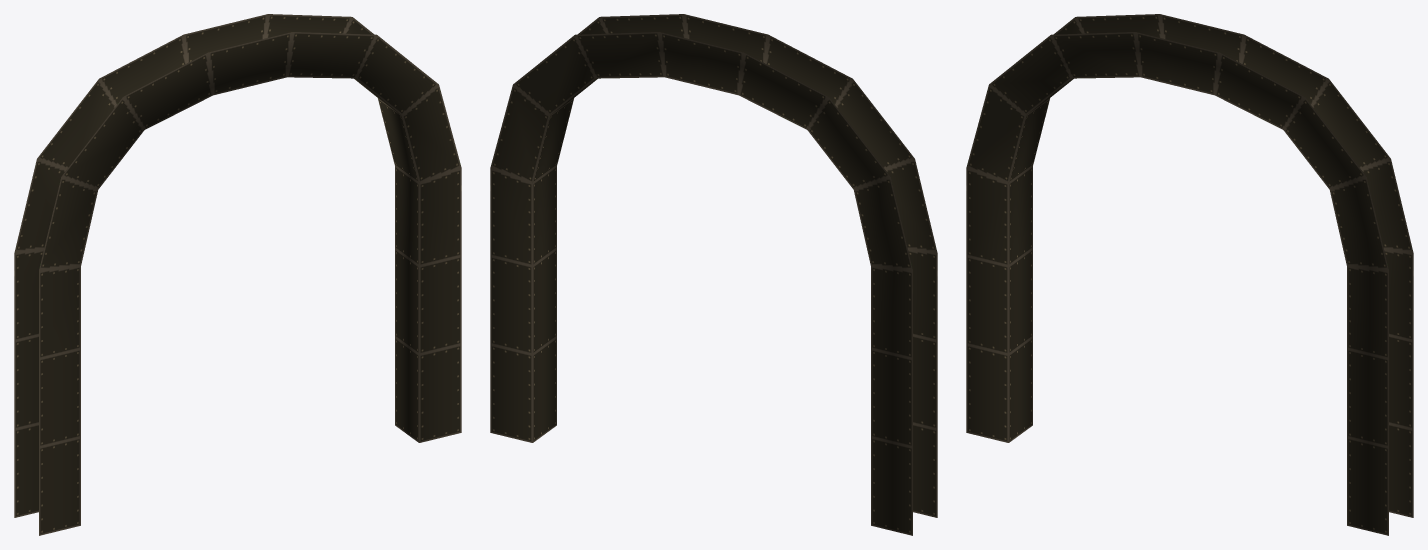
Rendered from Beam.fbx.
3 views of the same model, side by side, from view 1: azimuth 30°, elevation 25°; view 2: azimuth 150°, elevation 25°; view 3: azimuth 330°, elevation 25° (orthographic).
Parts seen in each view (by area): view 1: beam; view 2: beam; view 3: beam.
Part boxes in pixels (x1,y1,x2,y2): beam: [14, 14, 461, 535]; beam: [490, 14, 937, 535]; beam: [966, 14, 1413, 535].
Bounding box in the file's own units: 1000 × 1000 × 100.
